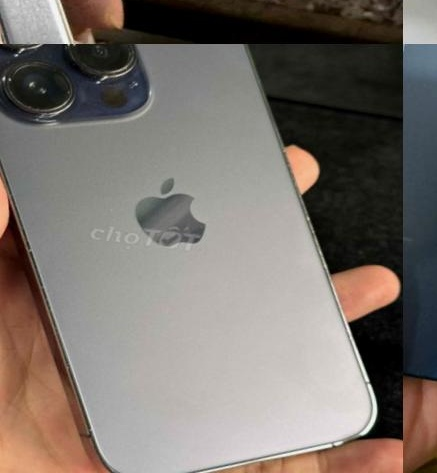scratch: (403, 195, 437, 327)
